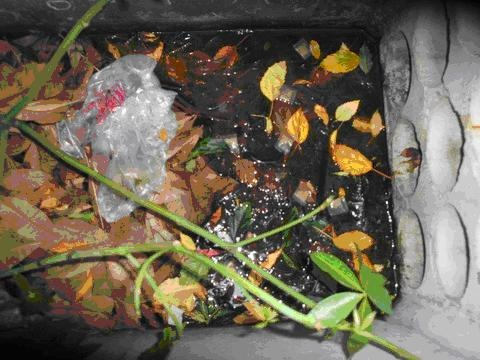plastic_bag: (54, 51, 180, 224)
